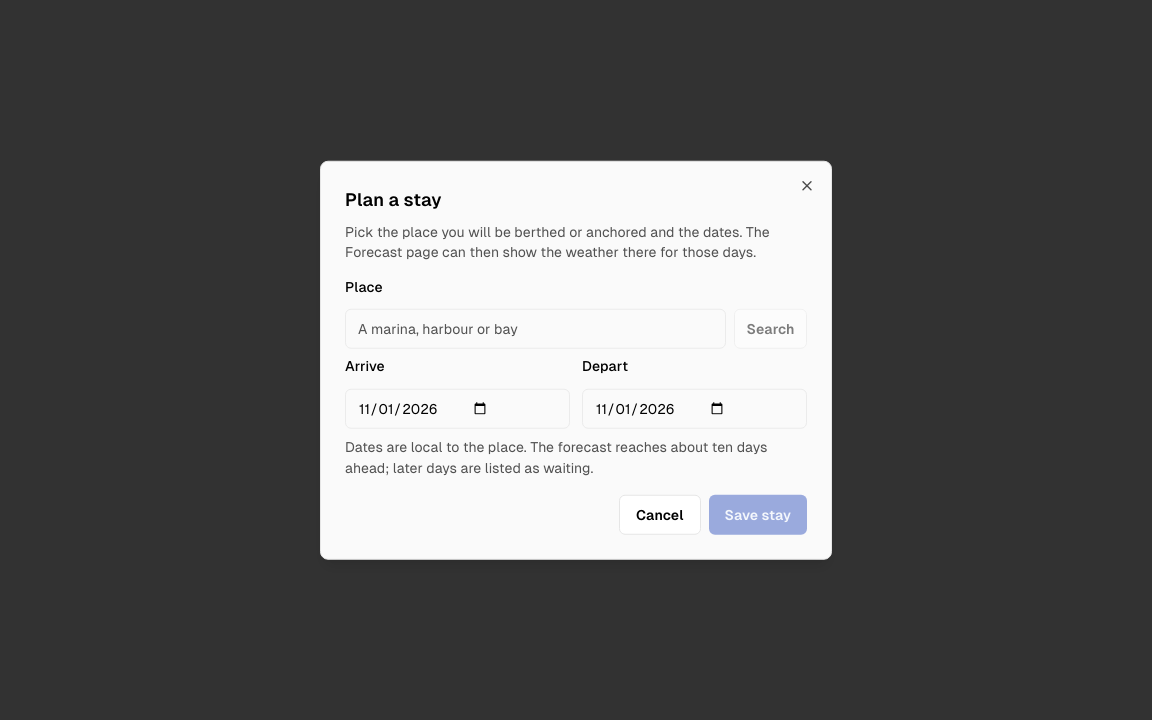
Test: ForecastStaySheet › offers each candidate with its distance and bearing from the boat
The image size is (1152, 720).
Type "Coral Coast" into the field labelled "Place" at (536, 329), box [345, 309, 726, 349]
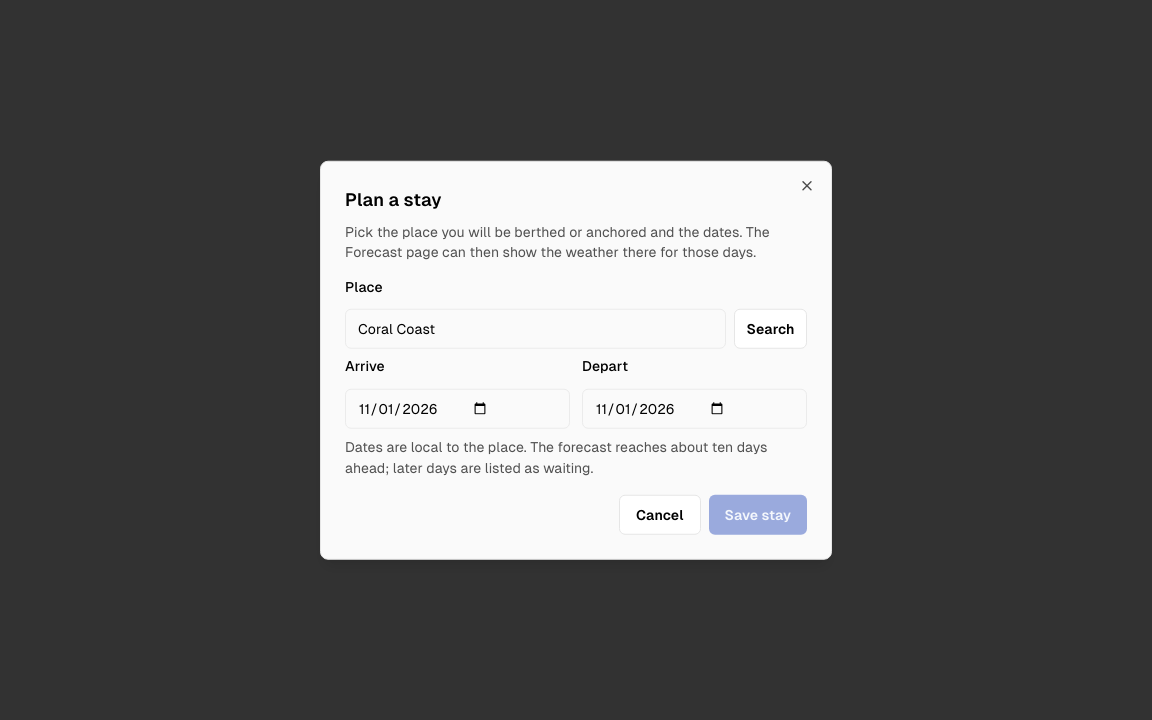
Click the button "Search" at (770, 329), box [734, 309, 807, 349]
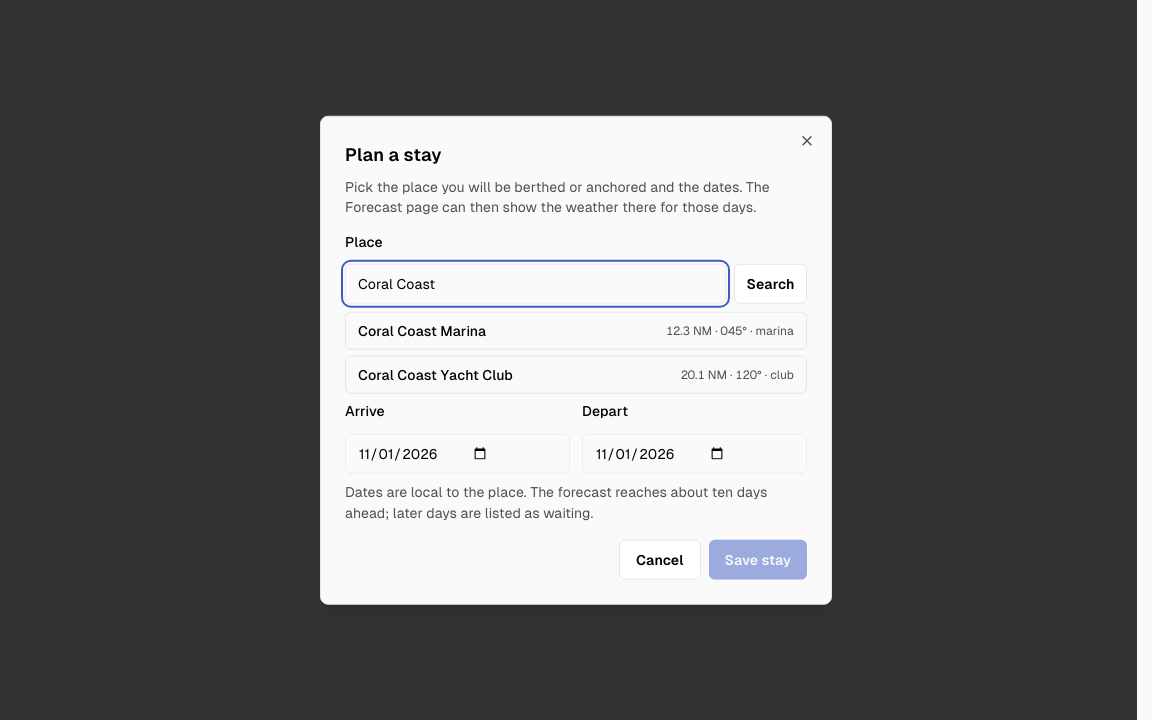
expect the button "Coral Coast Marina 12.3 NM · 045° · marina" is shown: met, box [345, 312, 807, 350]
